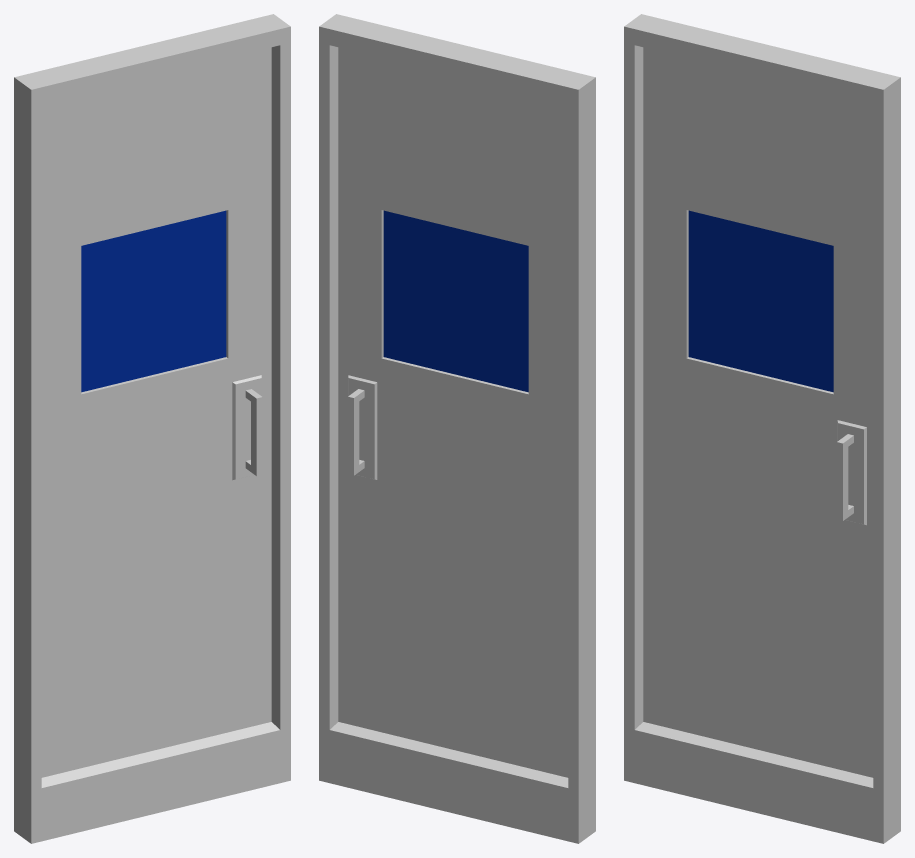
The model's file is door_elevator_L.fbx.
3 renders of one model, left to right at view 1: azimuth 30°, elevation 25°; view 2: azimuth 150°, elevation 25°; view 3: azimuth 330°, elevation 25°, orthographic.
Parts seen in each view (by area): view 1: door_elevator_L, door_glass_elevator_L; view 2: door_elevator_L, door_glass_elevator_L; view 3: door_elevator_L, door_glass_elevator_L.
Part boxes in pixels (x1=…): door_elevator_L: x1=14, y1=14, x2=290, y2=843; door_glass_elevator_L: x1=81, y1=210, x2=226, y2=392; door_elevator_L: x1=319, y1=14, x2=595, y2=843; door_glass_elevator_L: x1=383, y1=210, x2=528, y2=392; door_elevator_L: x1=624, y1=14, x2=900, y2=843; door_glass_elevator_L: x1=688, y1=210, x2=833, y2=392.
Size of the model in its own units: 1.21 by 3.36 by 0.2355.
